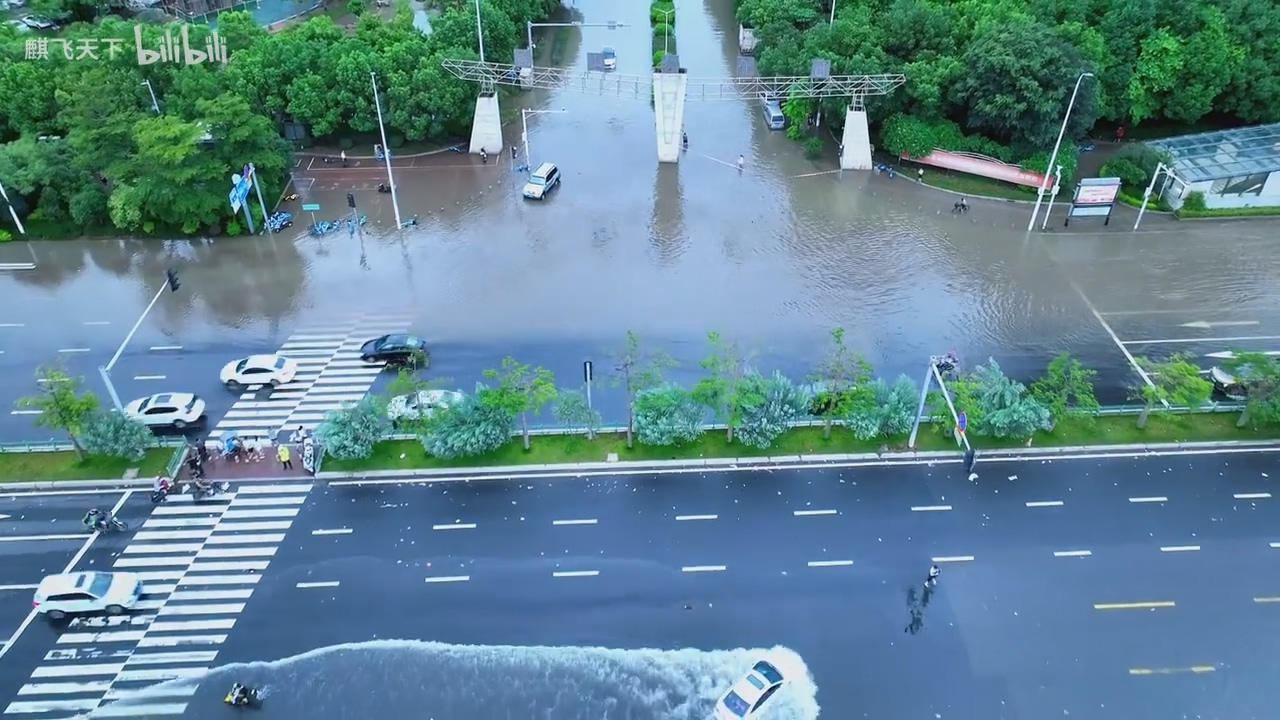puddle: (22, 211, 1275, 350)
